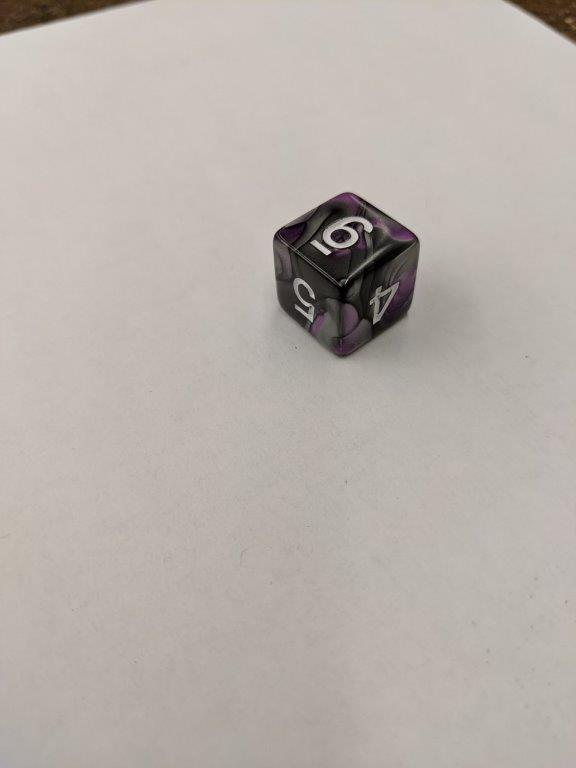d6-6: (274, 191, 419, 359)
